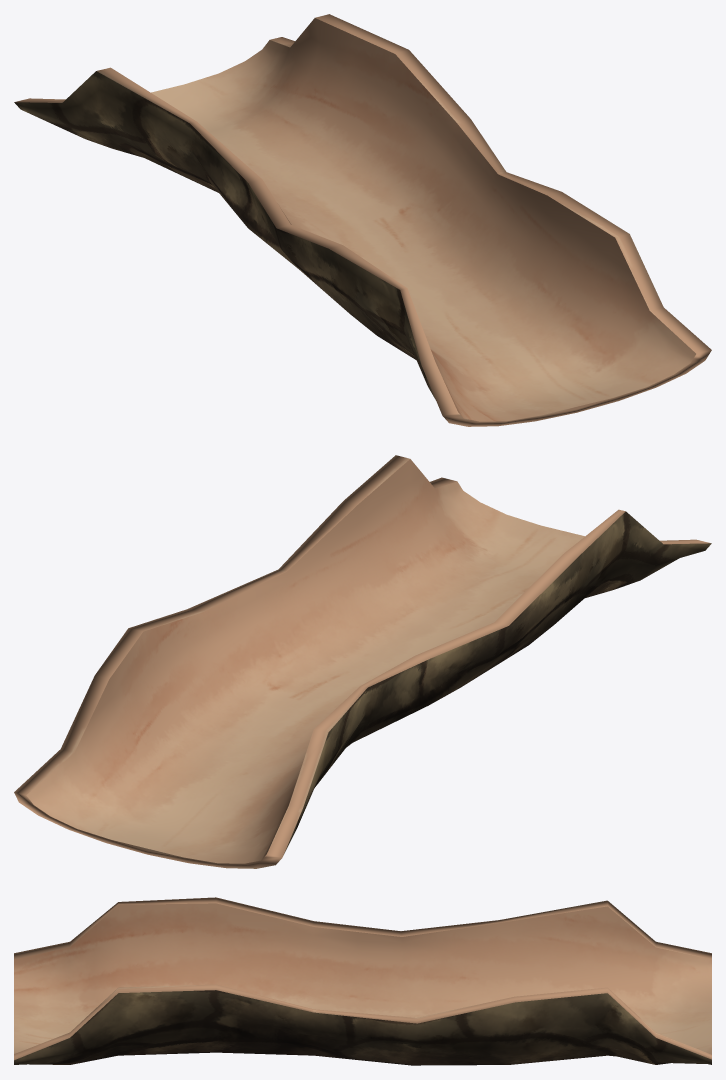
Rendered from bridge.fbx.
3 views of the same model, one above another, from view 1: azimuth 30°, elevation 25°; view 2: azimuth 150°, elevation 25°; view 3: azimuth 270°, elevation 25° (orthographic). The views are drawn at different scales.
Parts seen in each view (by area): view 1: pCylinder1; view 2: pCylinder1; view 3: pCylinder1.
Part boxes in pixels (x1,y1,x2,y2): pCylinder1: [14, 14, 711, 426]; pCylinder1: [14, 455, 711, 868]; pCylinder1: [14, 897, 711, 1065].
Bounding box in the file's own units: 28.62 × 12.32 × 76.97.
Materials: 1 (1 with a texture image).
